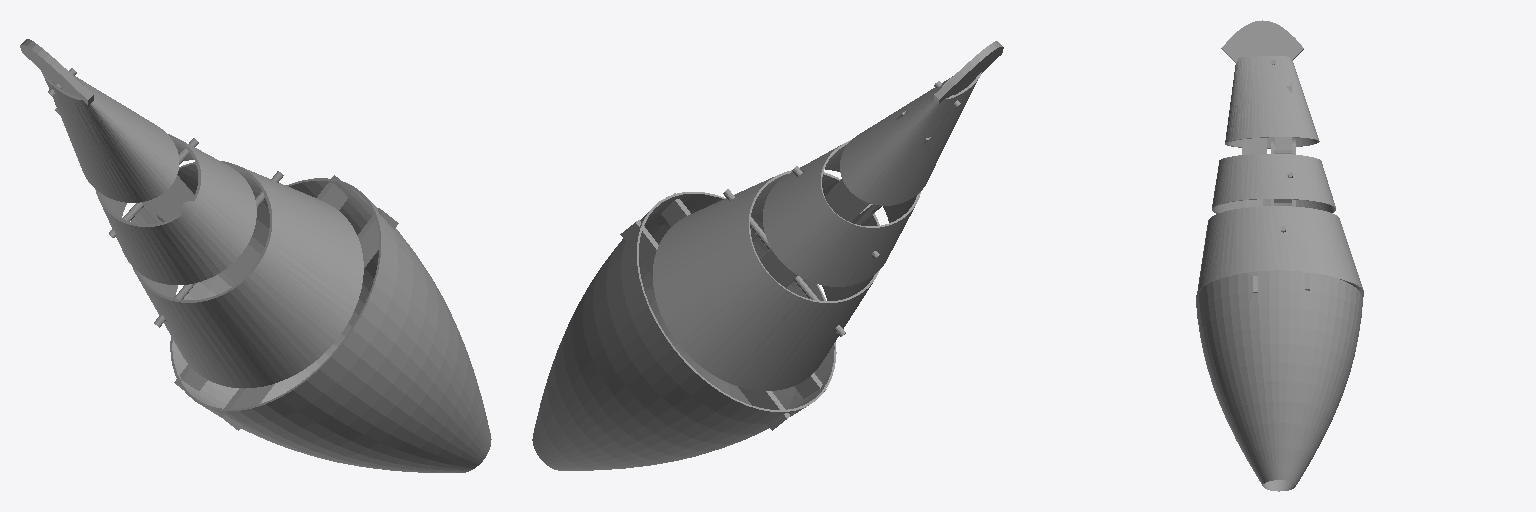
URDF robot description (hopefully thisworks fish v2):
<?xml version="1.0" encoding="utf-8"?>
<!-- This URDF was automatically created by SolidWorks to URDF Exporter! Originally created by [author] ([email redacted]) 
     Commit Version: 1.6.0-1-g15f4949  Build Version: 1.6.7594.29634
     For more information, please see http://wiki.ros.org/sw_urdf_exporter -->
<robot
  name="hopefully thisworks fish v2">
  <link
    name="base_link">
    <inertial>
      <origin
        xyz="0.125203473280545 -0.00779996766699792 -0.00802231379135293"
        rpy="0 0 0" />
      <mass
        value="0.0196204376102782" />
      <inertia
        ixx="3.59966739578019E-05"
        ixy="8.11632932104091E-07"
        ixz="5.83876529936867E-09"
        iyy="3.59987920309121E-05"
        iyz="-5.80962405137059E-09"
        izz="3.65724177523004E-05" />
    </inertial>
    <visual>
      <origin
        xyz="0 0 0"
        rpy="0 0 0" />
      <geometry>
        <mesh
          filename="package://hopefully thisworks fish v2/meshes/base_link.STL" />
      </geometry>
      <material
        name="">
        <color
          rgba="0.627450980392157 0.627450980392157 0.627450980392157 1" />
      </material>
    </visual>
    <collision>
      <origin
        xyz="0 0 0"
        rpy="0 0 0" />
      <geometry>
        <mesh
          filename="package://hopefully thisworks fish v2/meshes/base_link.STL" />
      </geometry>
    </collision>
  </link>
  <link
    name="connector_1">
    <inertial>
      <origin
        xyz="0.05 0.00500000000000001 0.00155195729165713"
        rpy="0 0 0" />
      <mass
        value="0.00305287300435992" />
      <inertia
        ixx="2.78483441281945E-08"
        ixy="-1.19114008207636E-21"
        ixz="7.27341332691048E-22"
        iyy="2.50284834412819E-06"
        iyz="2.56379775594361E-23"
        izz="2.52518214750002E-06" />
    </inertial>
    <visual>
      <origin
        xyz="0 0 0"
        rpy="0 0 0" />
      <geometry>
        <mesh
          filename="package://hopefully thisworks fish v2/meshes/connector_1.STL" />
      </geometry>
      <material
        name="">
        <color
          rgba="0.627450980392157 0.627450980392157 0.627450980392157 1" />
      </material>
    </visual>
    <collision>
      <origin
        xyz="0 0 0"
        rpy="0 0 0" />
      <geometry>
        <mesh
          filename="package://hopefully thisworks fish v2/meshes/connector_1.STL" />
      </geometry>
    </collision>
  </link>
  <joint
    name="joint_1"
    type="fixed">
    <origin
      xyz="0.061373 -0.0080688 -0.014644"
      rpy="-1.5708 -0.78792 0" />
    <parent
      link="base_link" />
    <child
      link="connector_1" />
    <axis
      xyz="0 0 0" />
  </joint>
  <link
    name="servo_1">
    <inertial>
      <origin
        xyz="-0.013693860209656 -2.50027359927074E-11 -0.00580926753613032"
        rpy="0 0 0" />
      <mass
        value="0.00246084368768117" />
      <inertia
        ixx="5.69891366202012E-08"
        ixy="1.65584406215934E-16"
        ixz="3.89171849153135E-08"
        iyy="2.57326502159184E-07"
        iyz="-1.03924771860733E-16"
        izz="2.36160009955788E-07" />
    </inertial>
    <visual>
      <origin
        xyz="0 0 0"
        rpy="0 0 0" />
      <geometry>
        <mesh
          filename="package://hopefully thisworks fish v2/meshes/servo_1.STL" />
      </geometry>
      <material
        name="">
        <color
          rgba="0.627450980392157 0.627450980392157 0.627450980392157 1" />
      </material>
    </visual>
    <collision>
      <origin
        xyz="0 0 0"
        rpy="0 0 0" />
      <geometry>
        <mesh
          filename="package://hopefully thisworks fish v2/meshes/servo_1.STL" />
      </geometry>
    </collision>
  </link>
  <joint
    name="joint_1.1"
    type="revolute">
    <origin
      xyz="0.05 0.005 0"
      rpy="-3.1416 0 1.5607" />
    <parent
      link="connector_1" />
    <child
      link="servo_1" />
    <axis
      xyz="0 0 1" />
    <limit
      lower="0"
      upper="0"
      effort="0"
      velocity="0" />
  </joint>
  <link
    name="steady_1">
    <inertial>
      <origin
        xyz="0.0334067277857967 -1.17929041532072E-10 0.00499999999999999"
        rpy="0 0 0" />
      <mass
        value="0.0103744467859455" />
      <inertia
        ixx="2.89871689022429E-07"
        ixy="-3.53011787055752E-15"
        ixz="1.37149715500802E-16"
        iyy="4.27522010065487E-06"
        iyz="1.37148606677955E-16"
        izz="4.36764065063871E-06" />
    </inertial>
    <visual>
      <origin
        xyz="0 0 0"
        rpy="0 0 0" />
      <geometry>
        <mesh
          filename="package://hopefully thisworks fish v2/meshes/steady_1.STL" />
      </geometry>
      <material
        name="">
        <color
          rgba="0.627450980392157 0.627450980392157 0.627450980392157 1" />
      </material>
    </visual>
    <collision>
      <origin
        xyz="0 0 0"
        rpy="0 0 0" />
      <geometry>
        <mesh
          filename="package://hopefully thisworks fish v2/meshes/steady_1.STL" />
      </geometry>
    </collision>
  </link>
  <joint
    name="joint_1.2"
    type="fixed">
    <origin
      xyz="-0.022 0 -0.006"
      rpy="0 0 3.104" />
    <parent
      link="servo_1" />
    <child
      link="steady_1" />
    <axis
      xyz="0 0 0" />
  </joint>
  <link
    name="steady_2">
    <inertial>
      <origin
        xyz="-0.0448802622505794 -1.28662802634238E-09 0.00254676754314769"
        rpy="0 0 0" />
      <mass
        value="0.0166819474196233" />
      <inertia
        ixx="1.14475822991125E-06"
        ixy="-9.673528044829E-13"
        ixz="-1.00630731023684E-06"
        iyy="1.21234226551939E-05"
        iyz="-2.5844986140473E-13"
        izz="1.14416358636467E-05" />
    </inertial>
    <visual>
      <origin
        xyz="0 0 0"
        rpy="0 0 0" />
      <geometry>
        <mesh
          filename="package://hopefully thisworks fish v2/meshes/steady_2.STL" />
      </geometry>
      <material
        name="">
        <color
          rgba="0.627450980392157 0.627450980392157 0.627450980392157 1" />
      </material>
    </visual>
    <collision>
      <origin
        xyz="0 0 0"
        rpy="0 0 0" />
      <geometry>
        <mesh
          filename="package://hopefully thisworks fish v2/meshes/steady_2.STL" />
      </geometry>
    </collision>
  </link>
  <joint
    name="joint_1.3"
    type="continuous">
    <origin
      xyz="0.06 0 0"
      rpy="0 0 3.0242" />
    <parent
      link="steady_1" />
    <child
      link="steady_2" />
    <axis
      xyz="0 0 1" />
  </joint>
  <link
    name="tail_3">
    <inertial>
      <origin
        xyz="-0.120004628501566 0.0050021702331802 0.0391635973064341"
        rpy="0 0 0" />
      <mass
        value="0.00536820351792088" />
      <inertia
        ixx="1.43674184108516E-06"
        ixy="-3.53543510138389E-10"
        ixz="4.38939642175212E-09"
        iyy="2.21081962787072E-06"
        iyz="6.24440825488109E-10"
        izz="1.60124130468359E-06" />
    </inertial>
    <visual>
      <origin
        xyz="0 0 0"
        rpy="0 0 0" />
      <geometry>
        <mesh
          filename="package://hopefully thisworks fish v2/meshes/tail_3.STL" />
      </geometry>
      <material
        name="">
        <color
          rgba="0.627450980392157 0.627450980392157 0.627450980392157 1" />
      </material>
    </visual>
    <collision>
      <origin
        xyz="0 0 0"
        rpy="0 0 0" />
      <geometry>
        <mesh
          filename="package://hopefully thisworks fish v2/meshes/tail_3.STL" />
      </geometry>
    </collision>
  </link>
  <joint
    name="joint_1.4"
    type="fixed">
    <origin
      xyz="0.069987 -0.0049819 -0.040155"
      rpy="0 0.023559 0" />
    <parent
      link="steady_2" />
    <child
      link="tail_3" />
    <axis
      xyz="0 0 0" />
  </joint>
  <link
    name="connector_2">
    <inertial>
      <origin
        xyz="0.05 0.00500000000000003 0.00155195729165716"
        rpy="0 0 0" />
      <mass
        value="0.00305287300435992" />
      <inertia
        ixx="2.78483441281947E-08"
        ixy="-8.32143696228346E-22"
        ixz="-6.6324134462194E-22"
        iyy="2.50284834412819E-06"
        iyz="1.75653721347039E-23"
        izz="2.52518214750002E-06" />
    </inertial>
    <visual>
      <origin
        xyz="0 0 0"
        rpy="0 0 0" />
      <geometry>
        <mesh
          filename="package://hopefully thisworks fish v2/meshes/connector_2.STL" />
      </geometry>
      <material
        name="">
        <color
          rgba="0.627450980392157 0.627450980392157 0.627450980392157 1" />
      </material>
    </visual>
    <collision>
      <origin
        xyz="0 0 0"
        rpy="0 0 0" />
      <geometry>
        <mesh
          filename="package://hopefully thisworks fish v2/meshes/connector_2.STL" />
      </geometry>
    </collision>
  </link>
  <joint
    name="joint_2"
    type="fixed">
    <origin
      xyz="0.067006 0.026531 -0.020394"
      rpy="1.5708 -0.78792 0" />
    <parent
      link="base_link" />
    <child
      link="connector_2" />
    <axis
      xyz="0 0 0" />
  </joint>
  <link
    name="servo_2">
    <inertial>
      <origin
        xyz="-0.0118131414189454 -1.38777878078145E-17 0.00767775716030974"
        rpy="0 0 0" />
      <mass
        value="0.00246693523902608" />
      <inertia
        ixx="6.43894942208545E-08"
        ixy="-4.30133918527574E-23"
        ixz="5.72591975724223E-08"
        iyy="2.56245730082838E-07"
        iyz="1.98523347012727E-23"
        izz="2.27770984163872E-07" />
    </inertial>
    <visual>
      <origin
        xyz="0 0 0"
        rpy="0 0 0" />
      <geometry>
        <mesh
          filename="package://hopefully thisworks fish v2/meshes/servo_2.STL" />
      </geometry>
      <material
        name="">
        <color
          rgba="0.627450980392157 0.627450980392157 0.627450980392157 1" />
      </material>
    </visual>
    <collision>
      <origin
        xyz="0 0 0"
        rpy="0 0 0" />
      <geometry>
        <mesh
          filename="package://hopefully thisworks fish v2/meshes/servo_2.STL" />
      </geometry>
    </collision>
  </link>
  <joint
    name="joint_2.1"
    type="continuous">
    <origin
      xyz="0.05 0.00500000000000001 0.00300000000000001"
      rpy="0 0 -1.53820768889135" />
    <parent
      link="connector_2" />
    <child
      link="servo_2" />
    <axis
      xyz="0 0 1" />
  </joint>
  <link
    name="moving_1">
    <inertial>
      <origin
        xyz="0.021456749179824 -4.56032447915256E-10 0.00750000000436203"
        rpy="0 0 0" />
      <mass
        value="0.00724409720885451" />
      <inertia
        ixx="4.37850916510125E-07"
        ixy="7.28952823888663E-14"
        ixz="4.60319947060294E-17"
        iyy="1.34271595915222E-06"
        iyz="3.18754782535109E-23"
        izz="1.64187968373942E-06" />
    </inertial>
    <visual>
      <origin
        xyz="0 0 0"
        rpy="0 0 0" />
      <geometry>
        <mesh
          filename="package://hopefully thisworks fish v2/meshes/moving_1.STL" />
      </geometry>
      <material
        name="">
        <color
          rgba="0.627450980392157 0.627450980392157 0.627450980392157 1" />
      </material>
    </visual>
    <collision>
      <origin
        xyz="0 0 0"
        rpy="0 0 0" />
      <geometry>
        <mesh
          filename="package://hopefully thisworks fish v2/meshes/moving_1.STL" />
      </geometry>
    </collision>
  </link>
  <joint
    name="joint_2.2"
    type="continuous">
    <origin
      xyz="-0.0200000002980232 0 0.0056"
      rpy="0 0 3.07304929265764" />
    <parent
      link="servo_2" />
    <child
      link="moving_1" />
    <axis
      xyz="0 0 1" />
  </joint>
  <link
    name="tail_1">
    <inertial>
      <origin
        xyz="-0.022395187625058 0.0050011958859327 0.029350988633871"
        rpy="0 0 0" />
      <mass
        value="0.0117752099756717" />
      <inertia
        ixx="1.9094699028907E-05"
        ixy="-5.28017168082019E-11"
        ixz="3.93695818070142E-07"
        iyy="1.35231941050437E-05"
        iyz="1.09204605200128E-09"
        izz="9.88191089410182E-06" />
    </inertial>
    <visual>
      <origin
        xyz="0 0 0"
        rpy="0 0 0" />
      <geometry>
        <mesh
          filename="package://hopefully thisworks fish v2/meshes/tail_1.STL" />
      </geometry>
      <material
        name="">
        <color
          rgba="0.627450980392157 0.627450980392157 0.627450980392157 1" />
      </material>
    </visual>
    <collision>
      <origin
        xyz="0 0 0"
        rpy="0 0 0" />
      <geometry>
        <mesh
          filename="package://hopefully thisworks fish v2/meshes/tail_1.STL" />
      </geometry>
    </collision>
  </link>
  <joint
    name="joint_2.3"
    type="fixed">
    <origin
      xyz="-0.00975689675517924 0.00495781561554423 -0.0158136676755105"
      rpy="0 0.0104980440135906 3.14159265358979" />
    <parent
      link="moving_1" />
    <child
      link="tail_1" />
    <axis
      xyz="0 0 0" />
  </joint>
  <link
    name="moving_2">
    <inertial>
      <origin
        xyz="-0.0199999928867684 5.54207833791676E-09 0.00734028222954751"
        rpy="0 0 0" />
      <mass
        value="0.00601886955859844" />
      <inertia
        ixx="3.22907058739065E-07"
        ixy="-6.17781075379856E-13"
        ixz="1.79702881428037E-13"
        iyy="7.00270800352352E-07"
        iyz="1.92276629067074E-09"
        izz="7.37764865080193E-07" />
    </inertial>
    <visual>
      <origin
        xyz="0 0 0"
        rpy="0 0 0" />
      <geometry>
        <mesh
          filename="package://hopefully thisworks fish v2/meshes/moving_2.STL" />
      </geometry>
      <material
        name="">
        <color
          rgba="0.627450980392157 0.627450980392157 0.627450980392157 1" />
      </material>
    </visual>
    <collision>
      <origin
        xyz="0 0 0"
        rpy="0 0 0" />
      <geometry>
        <mesh
          filename="package://hopefully thisworks fish v2/meshes/moving_2.STL" />
      </geometry>
    </collision>
  </link>
  <joint
    name="joint_2.4"
    type="continuous">
    <origin
      xyz="0.0399936959790062 0 0"
      rpy="0 0 3.07164859180379" />
    <parent
      link="moving_1" />
    <child
      link="moving_2" />
    <axis
      xyz="0 0 1" />
  </joint>
  <link
    name="tail_2">
    <inertial>
      <origin
        xyz="-0.071407713333955 0.00498448213206946 0.036499494559393"
        rpy="0 0 0" />
      <mass
        value="0.00534884135305422" />
      <inertia
        ixx="4.16347983280319E-06"
        ixy="8.61750534895231E-11"
        ixz="4.1790089108984E-08"
        iyy="3.01625209809896E-06"
        iyz="6.56090101298633E-10"
        izz="1.94813548803003E-06" />
    </inertial>
    <visual>
      <origin
        xyz="0 0 0"
        rpy="0 0 0" />
      <geometry>
        <mesh
          filename="package://hopefully thisworks fish v2/meshes/tail_2.STL" />
      </geometry>
      <material
        name="">
        <color
          rgba="0.627450980392157 0.627450980392157 0.627450980392157 1" />
      </material>
    </visual>
    <collision>
      <origin
        xyz="0 0 0"
        rpy="0 0 0" />
      <geometry>
        <mesh
          filename="package://hopefully thisworks fish v2/meshes/tail_2.STL" />
      </geometry>
    </collision>
  </link>
  <joint
    name="joint_2.5"
    type="fixed">
    <origin
      xyz="0.052500764623677 -0.00551433625547805 -0.0159972805836121"
      rpy="0 -3.75122854235347E-05 0" />
    <parent
      link="moving_2" />
    <child
      link="tail_2" />
    <axis
      xyz="0 0 0" />
  </joint>
  <link
    name="moving_3">
    <inertial>
      <origin
        xyz="-0.0157566899193941 -4.27012591952547E-12 0.00750000001081054"
        rpy="0 0 0" />
      <mass
        value="0.00710446614965053" />
      <inertia
        ixx="1.99938718022422E-07"
        ixy="-1.51098561248555E-16"
        ixz="-1.17012457595896E-15"
        iyy="1.37890860024361E-06"
        iyz="-4.43801338512288E-17"
        izz="1.43589585712564E-06" />
    </inertial>
    <visual>
      <origin
        xyz="0 0 0"
        rpy="0 0 0" />
      <geometry>
        <mesh
          filename="package://hopefully thisworks fish v2/meshes/moving_3.STL" />
      </geometry>
      <material
        name="">
        <color
          rgba="0.627450980392157 0.627450980392157 0.627450980392157 1" />
      </material>
    </visual>
    <collision>
      <origin
        xyz="0 0 0"
        rpy="0 0 0" />
      <geometry>
        <mesh
          filename="package://hopefully thisworks fish v2/meshes/moving_3.STL" />
      </geometry>
    </collision>
  </link>
  <joint
    name="joint_2.6"
    type="continuous">
    <origin
      xyz="-0.04 0 0"
      rpy="0 0 -0.0239424032322407" />
    <parent
      link="moving_2" />
    <child
      link="moving_3" />
    <axis
      xyz="0 0 1" />
  </joint>
</robot>

--- What the picture shows (computed from the rendered views, not written in the file) ---
Views: 3 orthographic renders of the robot side by side, from view 1: azimuth 30°, elevation 25°; view 2: azimuth 150°, elevation 25°; view 3: azimuth 270°, elevation 25°.
Robot: hopefully thisworks fish v2 — 13 links, 12 joints (1 revolute, 5 continuous, 6 fixed); root link base_link; default pose: every joint at zero.
Visible links, largest first — view 1: base_link, tail_1, tail_2, tail_3, steady_2, connector_1, connector_2, steady_1; view 2: base_link, tail_1, tail_2, tail_3, connector_2, steady_2, moving_1, moving_2, connector_1; view 3: base_link, tail_1, tail_3, tail_2, steady_2.
Boxes of the visible links, left/top/right/bottom form: base_link: left=170, top=178, right=491, bottom=472; tail_1: left=131, top=161, right=363, bottom=388; tail_2: left=95, top=134, right=256, bottom=284; tail_3: left=41, top=70, right=178, bottom=202; steady_2: left=20, top=39, right=193, bottom=220; connector_1: left=219, top=208, right=398, bottom=430; connector_2: left=174, top=175, right=347, bottom=390; steady_1: left=157, top=215, right=260, bottom=284; base_link: left=532, top=192, right=836, bottom=470; tail_1: left=653, top=170, right=879, bottom=390; tail_2: left=763, top=140, right=920, bottom=286; tail_3: left=840, top=72, right=981, bottom=205; connector_2: left=620, top=220, right=789, bottom=430; steady_2: left=860, top=41, right=1003, bottom=219; moving_1: left=723, top=189, right=845, bottom=336; moving_2: left=792, top=166, right=879, bottom=258; connector_1: left=661, top=193, right=826, bottom=398; base_link: left=1196, top=270, right=1362, bottom=491; tail_1: left=1197, top=206, right=1363, bottom=296; tail_3: left=1225, top=56, right=1319, bottom=148; tail_2: left=1212, top=154, right=1335, bottom=213; steady_2: left=1221, top=20, right=1303, bottom=154.
Bounding box of the posed robot: 0.2062 × 0.1027 × 0.2279 m (x, y, z).
Meshes: 13 distinct files referenced, 13 mesh visuals loaded (13 binary STL).